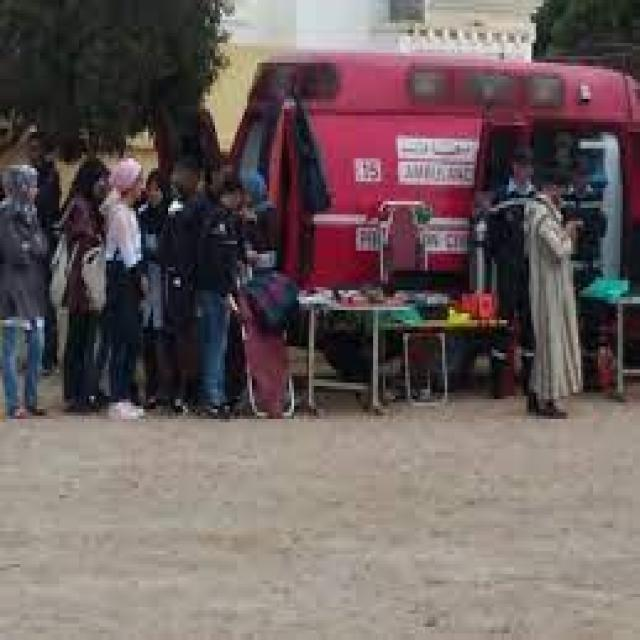ambulance: (256, 58, 634, 287)
